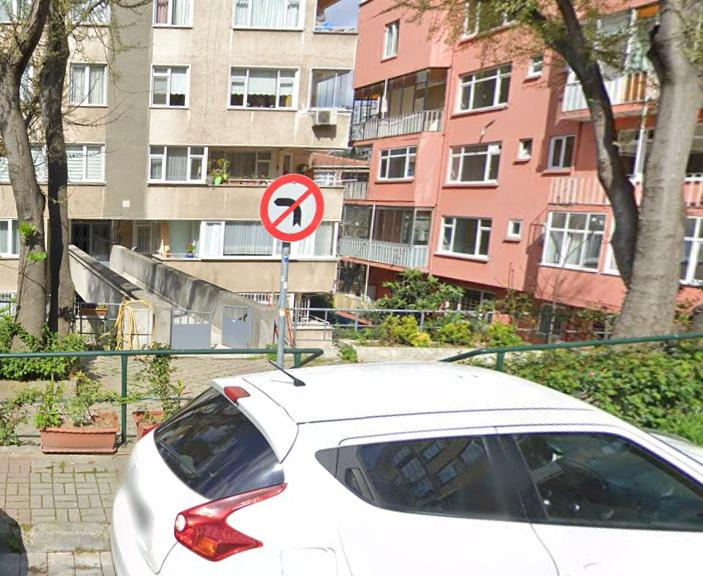leftturnsareforbidden: (261, 176, 323, 243)
